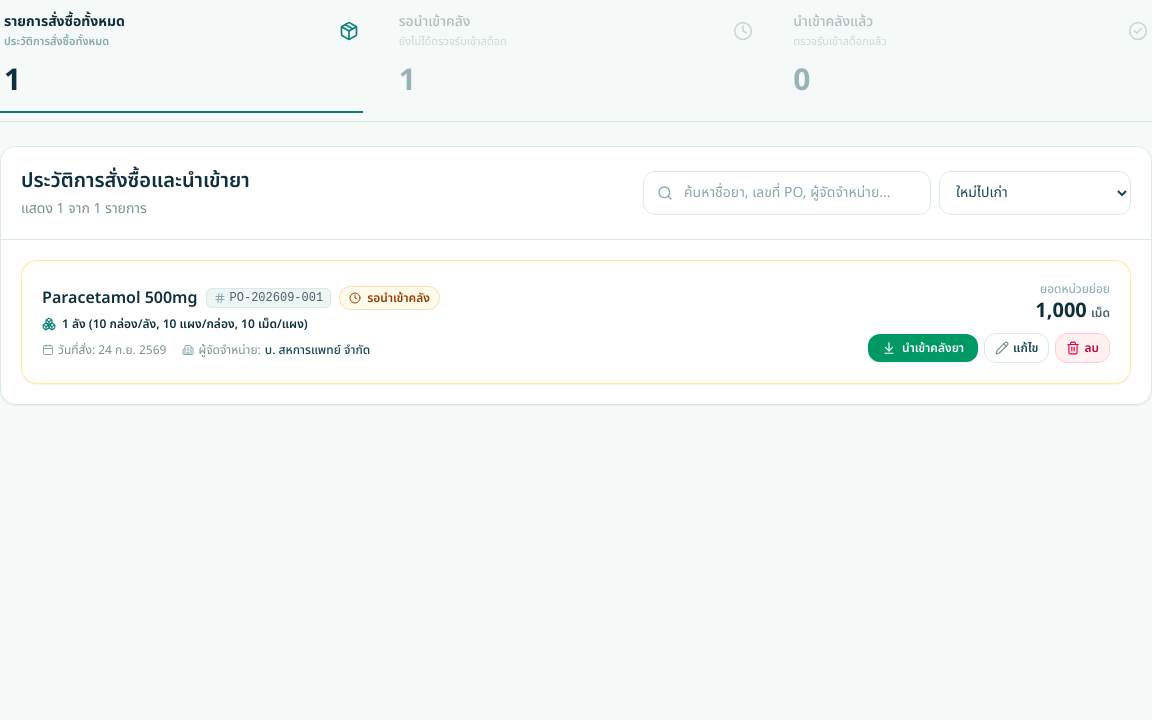
Test: ProcurementsTab & Stock-in Workflow › keeps the receipt modal open and shows RPC errors without a success toast
Click the button "นำเข้าคลังยา": (923, 348) [868,334,978,362]
(page scrolled)
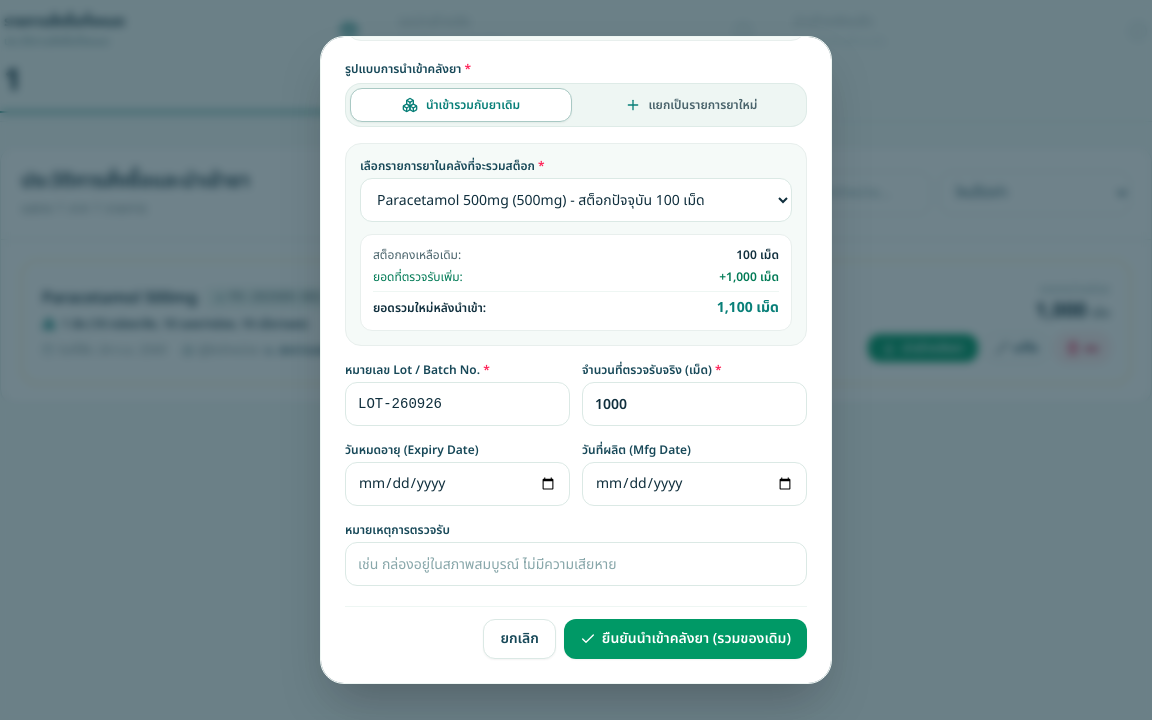
Click the button "ยืนยันนำเข้าคลังยา (รวมของเดิม)": (685, 639) [564,619,807,659]
(page scrolled)
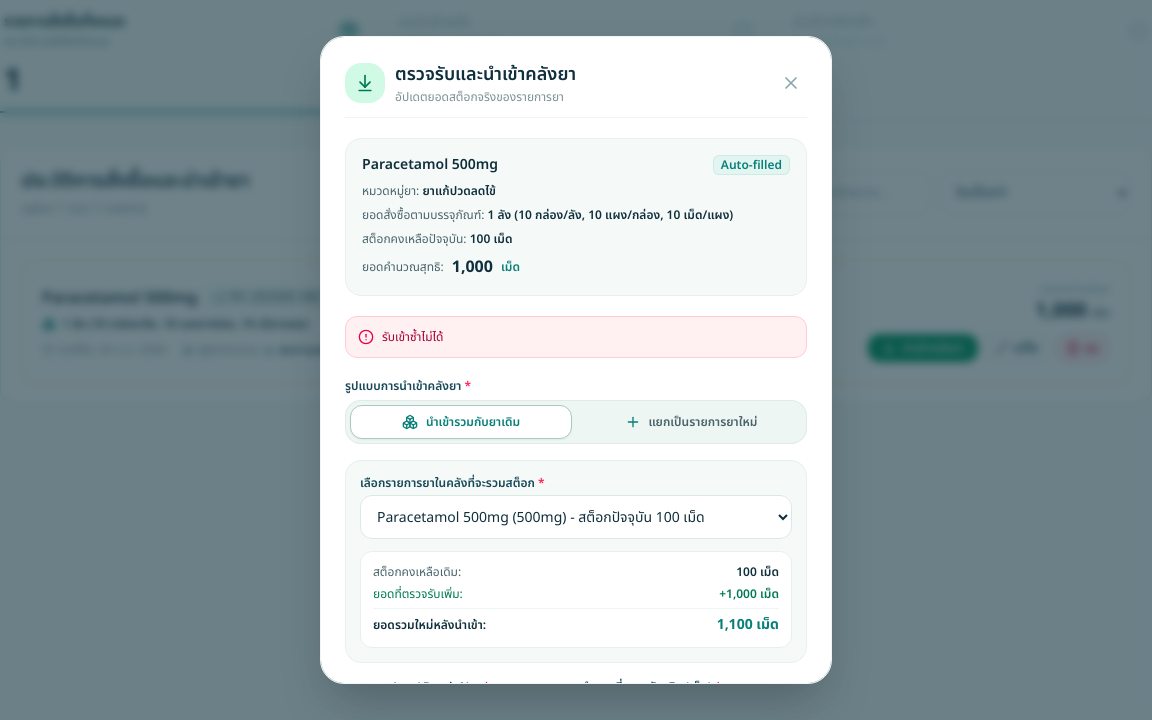
Check: the text "รับเข้าซ้ำไม่ได้" is shown, box [382,329,443,345]
Check: the heading "ตรวจรับและนำเข้าคลังยา" is shown, box [395,61,576,89]
